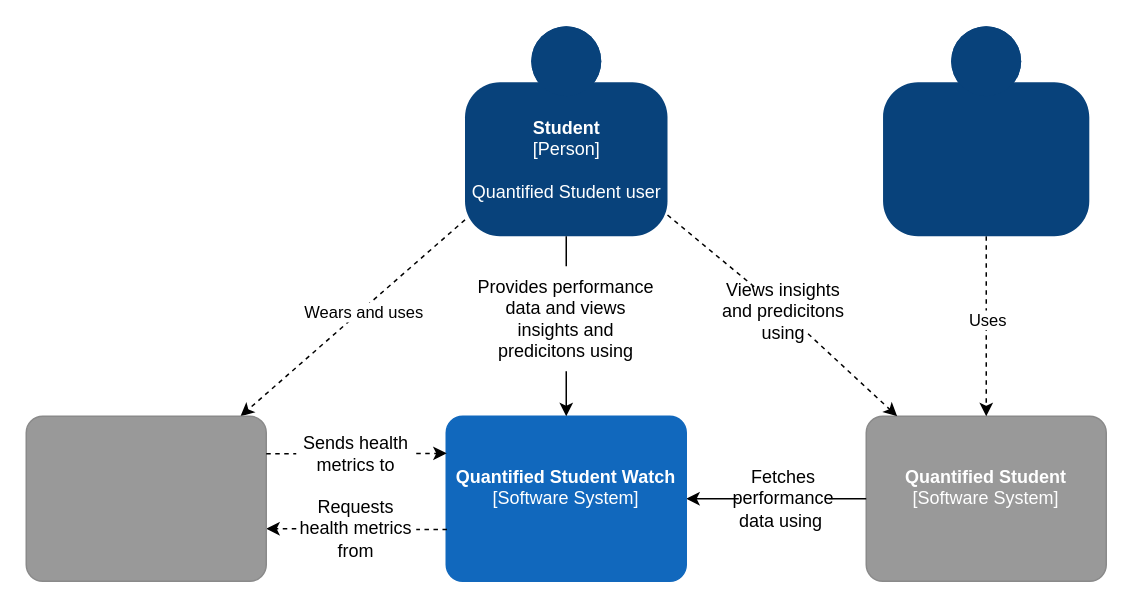
The diagram is 1133 pixels wide and 608 high, and some of its shapes have lost their labels. Here are the shapes that lost their labels. From the top down, the centre of each, then its label:
At [985,131]: "Teacher [Person]".
At [145,498]: "Smartwatch [Hardware System] Compatible smartwatch like the E66D".
